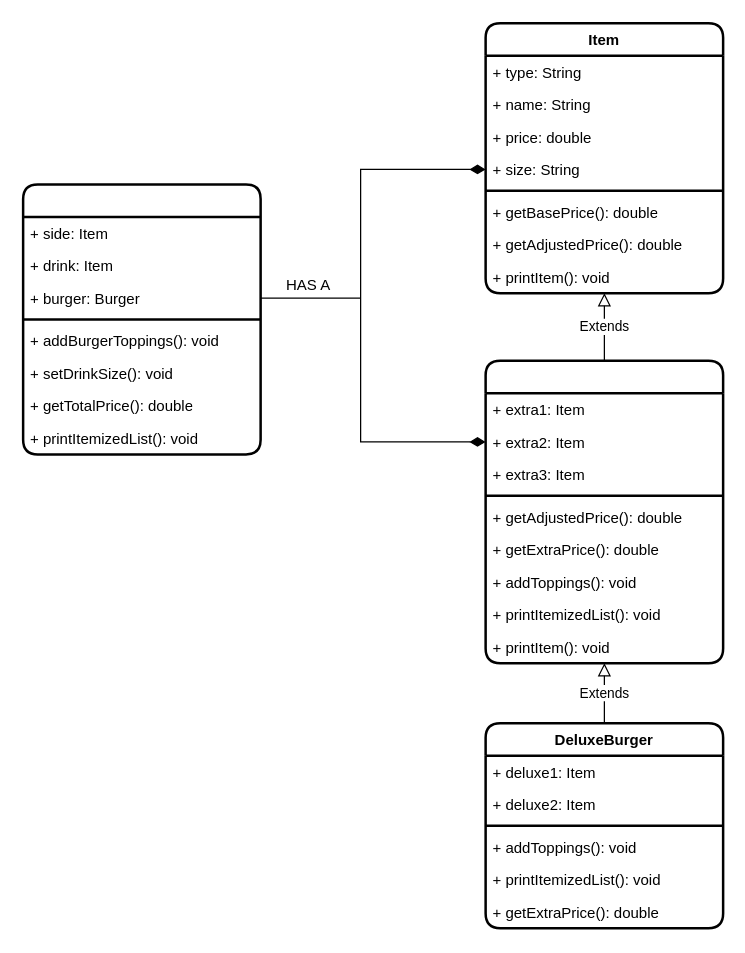
The diagram is 745 pixels wide and 953 high, and some of its shapes have lost their labels. Here are the shapes that lost their labels. From the top down, the box of each, then its label:
(21, 182, 261, 455): MealOrder
(484, 359, 724, 664): Burger
